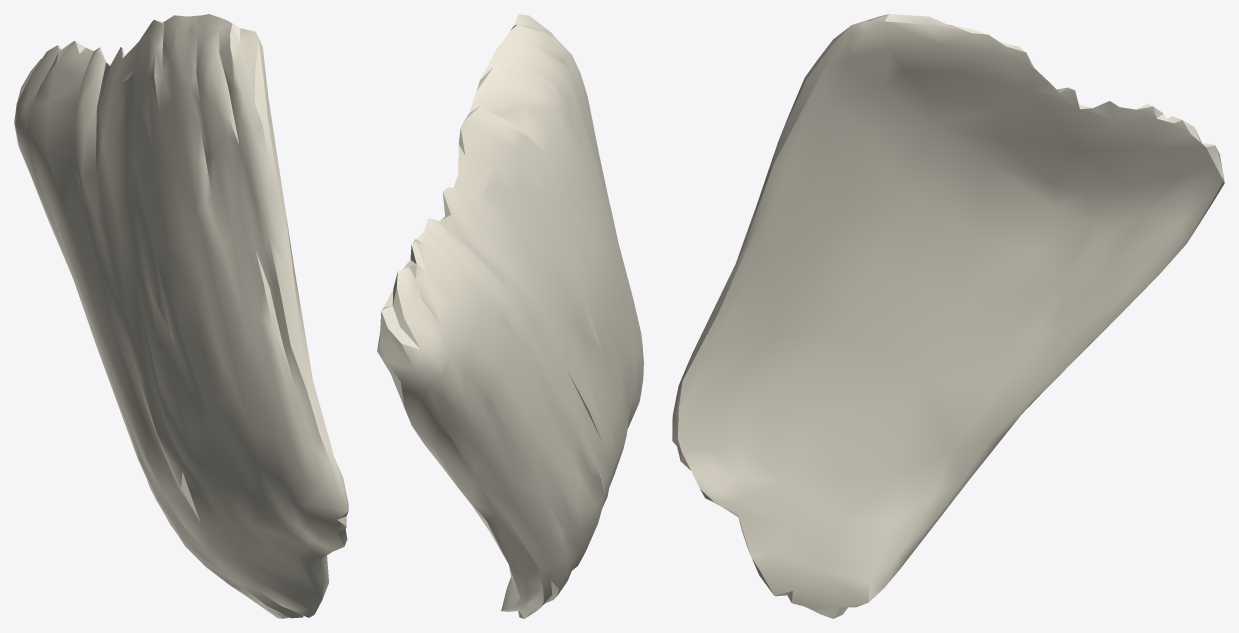
Rendered from fma321711-l_mm1491.glb.
3 renders of one model, left to right at view 1: azimuth 30°, elevation 25°; view 2: azimuth 150°, elevation 25°; view 3: azimuth 270°, elevation 25°, orthographic. The views are drawn at different scales.
Visible parts, largest first — view 1: FMA321711-L_MM1491; view 2: FMA321711-L_MM1491; view 3: FMA321711-L_MM1491.
Part boxes in pixels (x1,y1,x2,y2): FMA321711-L_MM1491: (14, 14, 348, 618); FMA321711-L_MM1491: (377, 14, 643, 618); FMA321711-L_MM1491: (672, 14, 1224, 618).
Size of the model in its own units: 0.00347 by 0.0182 by 0.0154.
